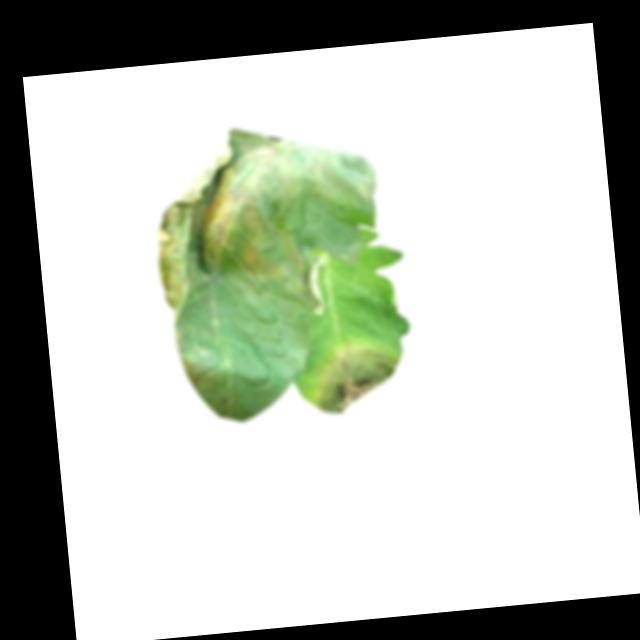Late_blight: (145, 123, 323, 323), (306, 334, 405, 418), (307, 139, 379, 217)
